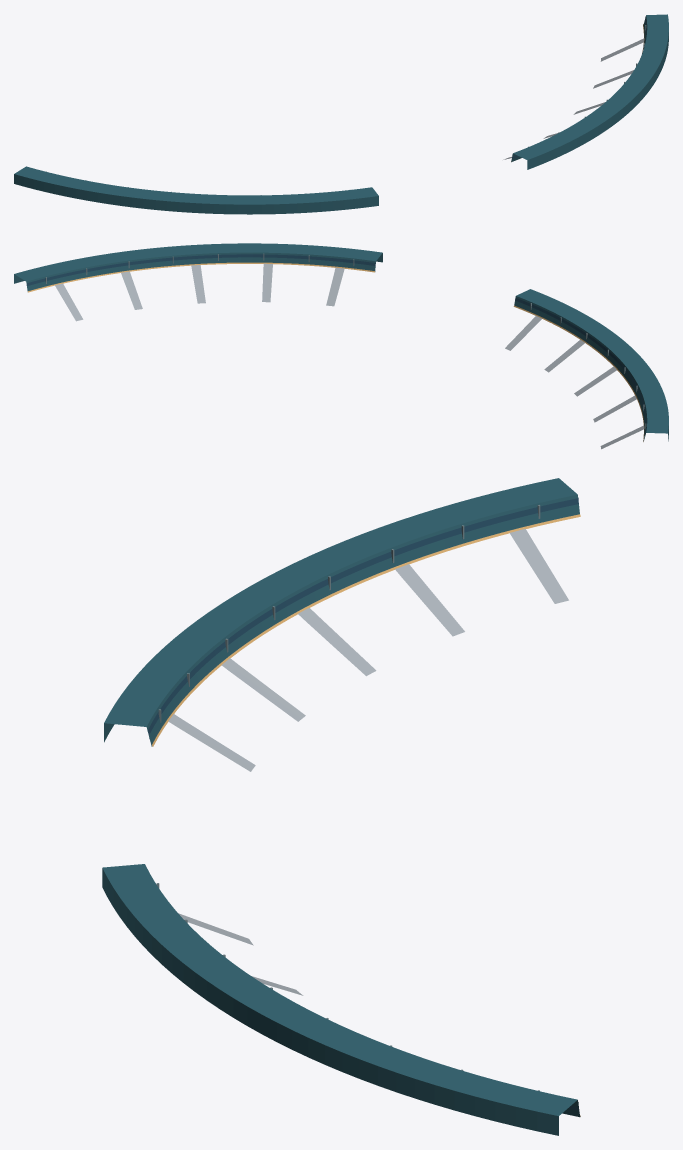
File: intercontinental.glb
3 views of the same model, one above another, from view 1: azimuth 30°, elevation 25°; view 2: azimuth 150°, elevation 25°; view 3: azimuth 270°, elevation 25° (orthographic). The views are drawn at different scales.
Parts seen in each view (by area): view 1: Fascia, Aisle; view 2: Fascia, Aisle, Suite glazing, Suite lighting; view 3: Fascia, Aisle, Suite glazing, Suite lighting.
Boxes of the visible parts, box(x1,y1,x2,y2) form: Fascia: box(14, 14, 668, 214); Aisle: box(503, 38, 644, 159); Fascia: box(14, 243, 668, 441); Aisle: box(55, 263, 644, 449); Suite glazing: box(26, 254, 646, 431); Suite lighting: box(28, 262, 644, 441); Fascia: box(102, 478, 580, 1135); Aisle: box(168, 529, 568, 995); Suite glazing: box(148, 498, 579, 1110); Suite lighting: box(152, 514, 580, 1116).
Bounding box in the file's own units: 277 × 12.08 × 87.84.
